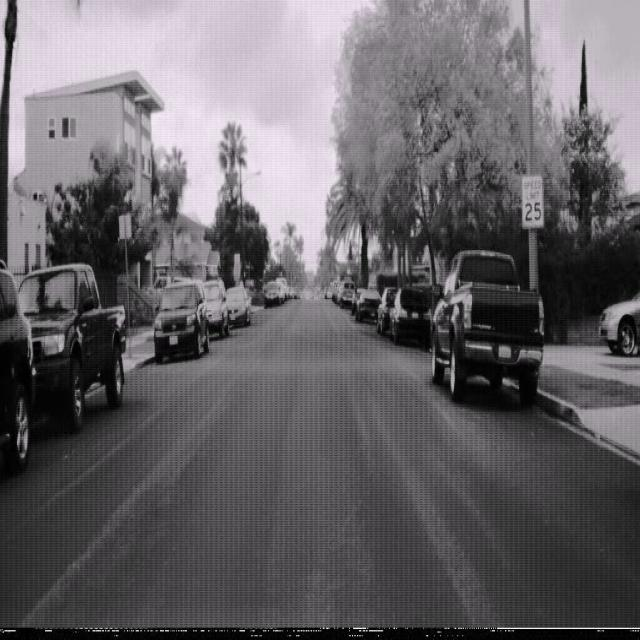speedLimit25: (520, 173, 544, 229)
